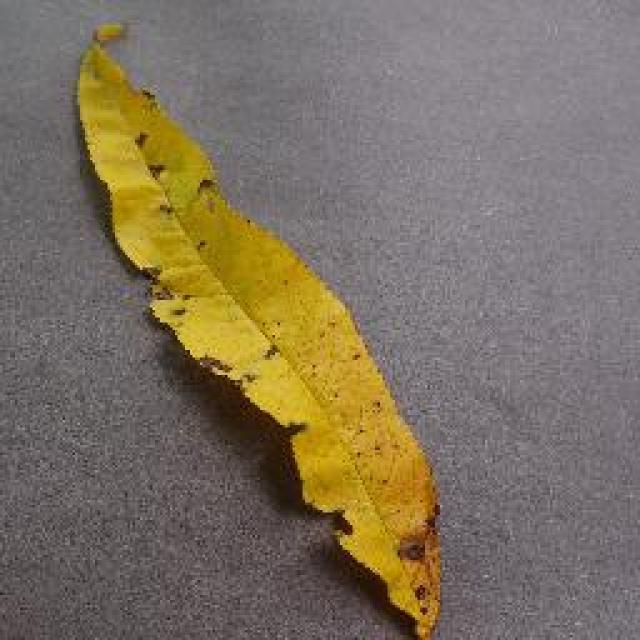Peach_Bacterial_Spot: (102, 93, 430, 567)
